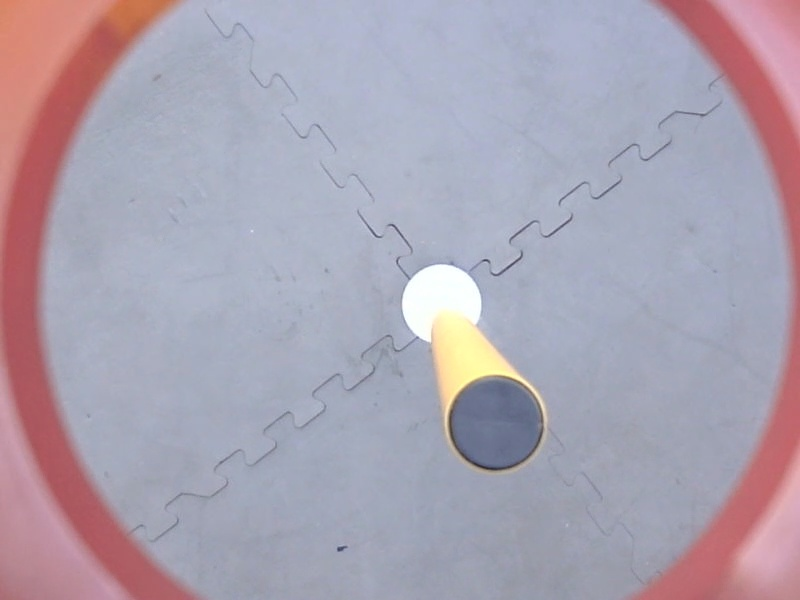tip: (439, 370, 555, 479)
